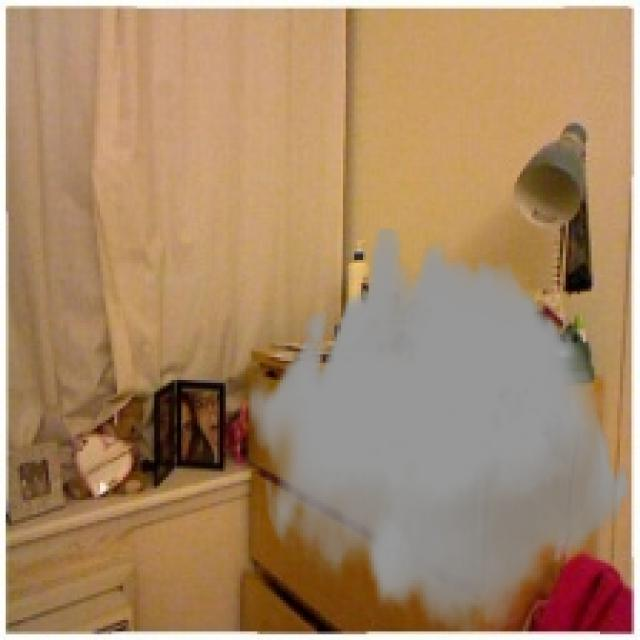smoke: (246, 228, 631, 632)
